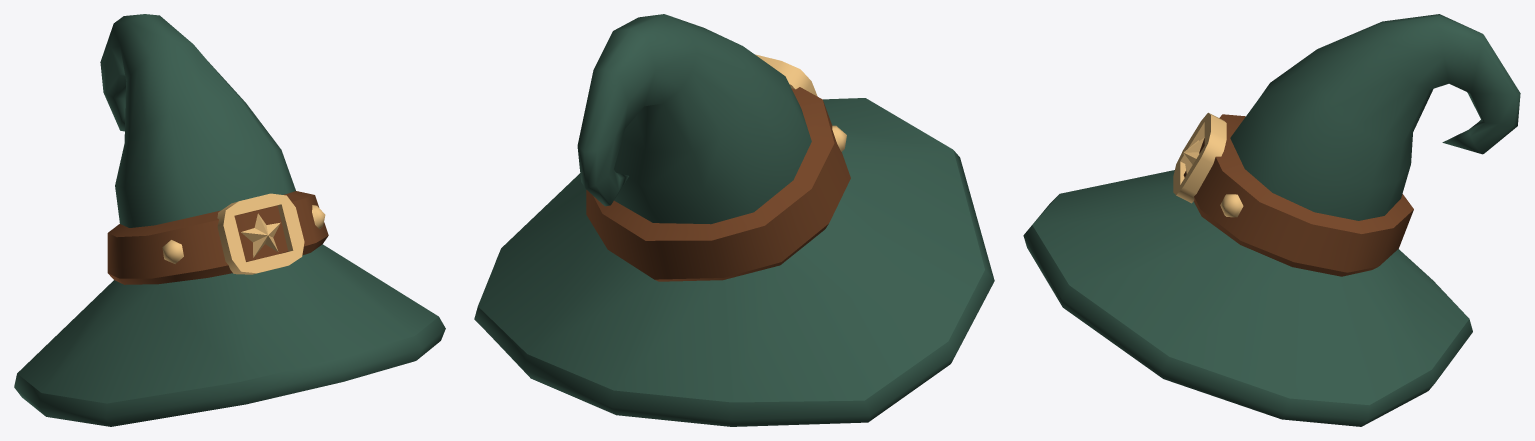
File: Headgear_29.fbx
The picture shows the model from 3 angles, left to right: view 1: azimuth 30°, elevation 25°; view 2: azimuth 150°, elevation 25°; view 3: azimuth 270°, elevation 25°; orthographic projection. The views are drawn at different scales.
Parts seen in each view (by area): view 1: Headgear_29; view 2: Headgear_29; view 3: Headgear_29.
Boxes of the visible parts, left/top/right/bottom form: Headgear_29: left=14, top=14, right=445, bottom=426; Headgear_29: left=474, top=14, right=994, bottom=426; Headgear_29: left=1023, top=14, right=1520, bottom=426.
Bounding box in the file's own units: 99.44 × 80.48 × 110.
